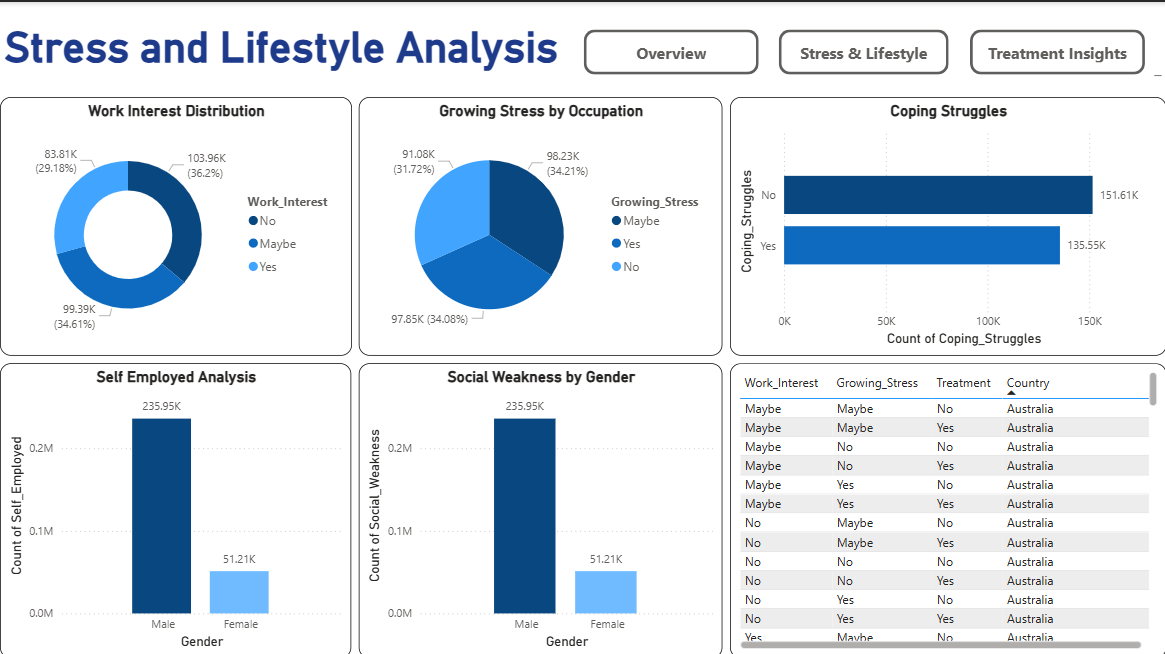

What the dashboard file says about the page in this screenshot:
{"tool":"powerbi","page":{"name":"Lifestyle & Work Patterns","canvas":[1280,720],"ordinal":3},"visuals":[{"type":"donutChart","title":"Work Interest Distribution","fields":{"Category":["Mental Health Dataset (2).Work_Interest"],"Y":["CountNonNull(Mental Health Dataset (2).Work_Interest)"]},"box":[0,104.3,386,284],"z":0},{"type":"pieChart","title":"Growing Stress by Occupation","fields":{"Category":["Mental Health Dataset (2).Growing_Stress"],"Y":["CountNonNull(Mental Health Dataset (2).Occupation)"]},"box":[393.8,104.3,399.3,284],"z":1000},{"type":"columnChart","title":"Self Employed Analysis","fields":{"Category":["Mental Health Dataset (2).Gender"],"Y":["CountNonNull(Mental Health Dataset (2).Self_Employed)"]},"box":[0,396.6,385.6,323.8],"z":2000},{"type":"clusteredColumnChart","title":"Social Weakness by Gender","fields":{"Category":["Mental Health Dataset (2).Gender"],"Y":["CountNonNull(Mental Health Dataset (2).Social_Weakness)"]},"box":[393.8,396.6,399.3,323.8],"z":3000},{"type":"barChart","title":"Coping Struggles","fields":{"Category":["Mental Health Dataset (2).Coping_Struggles"],"Y":["CountNonNull(Mental Health Dataset (2).Coping_Struggles)"]},"box":[801.4,104.3,478.9,284],"z":4000},{"type":"tableEx","fields":{"Values":["Mental Health Dataset (2).Work_Interest","Mental Health Dataset (2).Growing_Stress","Mental Health Dataset (2).Treatment","Mental Health Dataset (2).Country"]},"box":[801.4,396.6,478.9,323.8],"z":5000},{"type":"textbox","title":"Stress and Lifestyle Analysis","box":[0,22,1280.3,64.5],"z":6000},{"type":"actionButton","title":"Overview ","box":[640.8,30.2,192.1,49.4],"z":7000},{"type":"actionButton","box":[854.9,30.2,186.6,49.4],"z":8000},{"type":"actionButton","box":[1064.8,30.2,192.1,49.4],"z":9000}]}

Visuals, with their boxes in screenshot pixels (x1, y1, x2, y2), scaled from the page's 1280x720 canvas onto the 1165x654 screenshot:
"Work Interest Distribution" donutChart: bbox=[0, 95, 351, 353]
"Growing Stress by Occupation" pieChart: bbox=[358, 95, 722, 353]
"Self Employed Analysis" columnChart: bbox=[0, 360, 351, 653]
"Social Weakness by Gender" clusteredColumnChart: bbox=[358, 360, 722, 653]
"Coping Struggles" barChart: bbox=[729, 95, 1164, 353]
tableEx - Mental Health Dataset (2).Work_Interest x Mental Health Dataset (2).Growing_Stress: bbox=[729, 360, 1164, 653]
"Stress and Lifestyle Analysis" textbox: bbox=[0, 20, 1164, 79]
"Overview " actionButton: bbox=[583, 27, 758, 72]
actionButton: bbox=[778, 27, 948, 72]
actionButton: bbox=[969, 27, 1144, 72]
